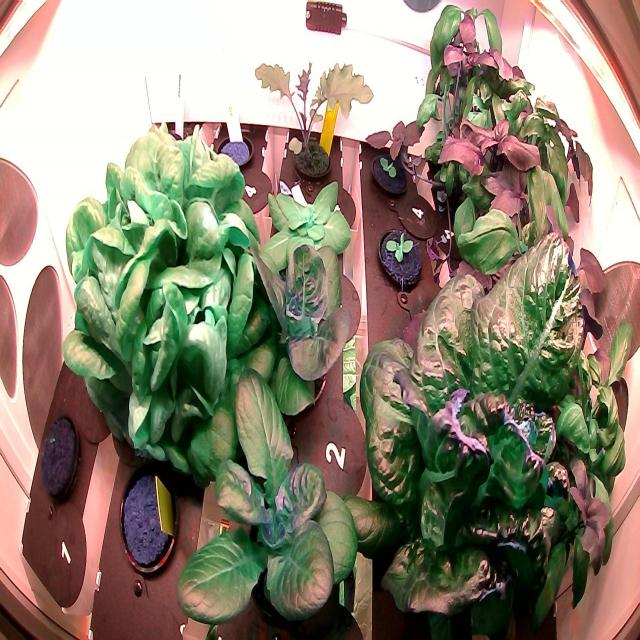Ready: (328, 196, 610, 640), (59, 115, 274, 476)
germination: (365, 139, 416, 203)
pod: (115, 466, 182, 578), (34, 405, 84, 504), (210, 124, 260, 179)
young: (171, 339, 369, 640), (208, 225, 364, 432), (254, 166, 356, 289), (374, 216, 426, 294)
